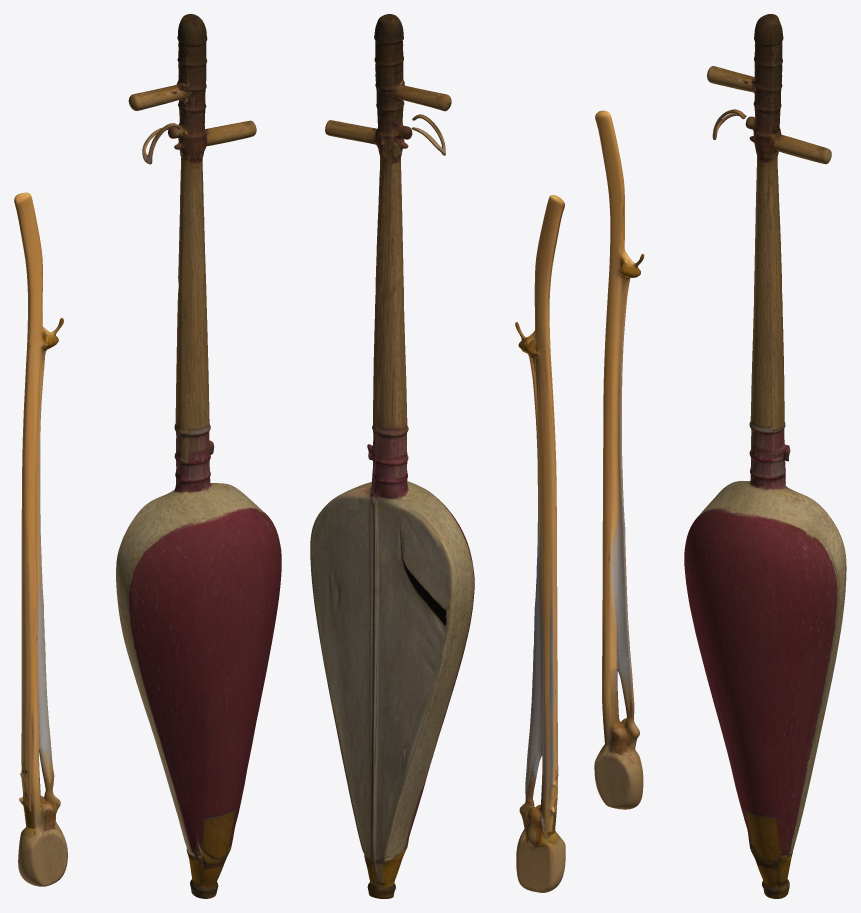
File: sulawesi-selatan.glb
The picture shows the model from 3 angles, left to right: view 1: azimuth 30°, elevation 25°; view 2: azimuth 150°, elevation 25°; view 3: azimuth 330°, elevation 25°; orthographic projection.
Parts seen in each view (by area): view 1: node_0; view 2: node_0; view 3: node_0.
Boxes of the visible parts, x1,y1,x2,y2 form: node_0: (14,14,281,898); node_0: (310,14,565,898); node_0: (594,14,846,898).
Bounding box in the file's own units: 0.3595 × 1.19 × 0.1122.
Materials: 1 (1 with a texture image).
